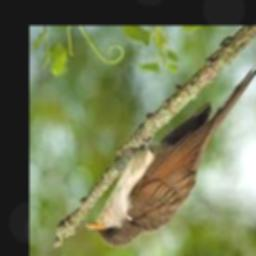Cuckoo: (86, 65, 256, 247)
